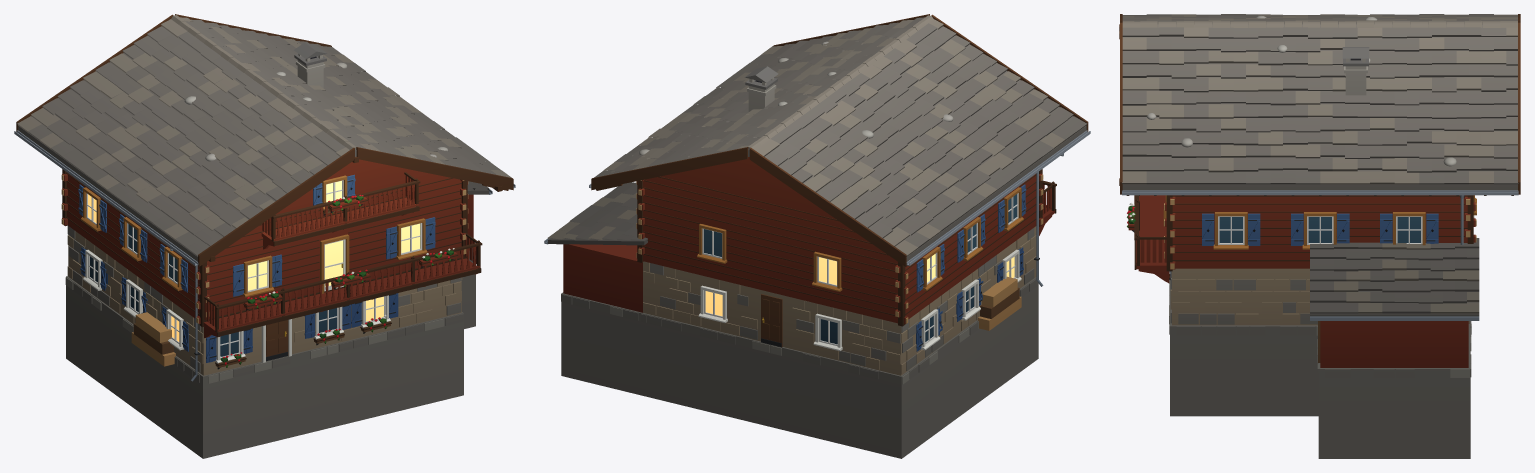
Rendered from Chalet_D.fbx.
The picture shows the model from 3 angles, left to right: view 1: azimuth 30°, elevation 25°; view 2: azimuth 150°, elevation 25°; view 3: azimuth 270°, elevation 25°; orthographic projection. The views are drawn at different scales.
Visible parts, largest first — view 1: Chalet_D_LOD0; view 2: Chalet_D_LOD0; view 3: Chalet_D_LOD0.
Part boxes in pixels (x1,y1,x2,y2): Chalet_D_LOD0: (14, 14, 515, 458); Chalet_D_LOD0: (544, 14, 1090, 458); Chalet_D_LOD0: (1119, 14, 1520, 458).
Size of what is drawn, in the model's own units: 16.35 by 12.35 by 13.52.
Materials: 1 (1 with a texture image).
